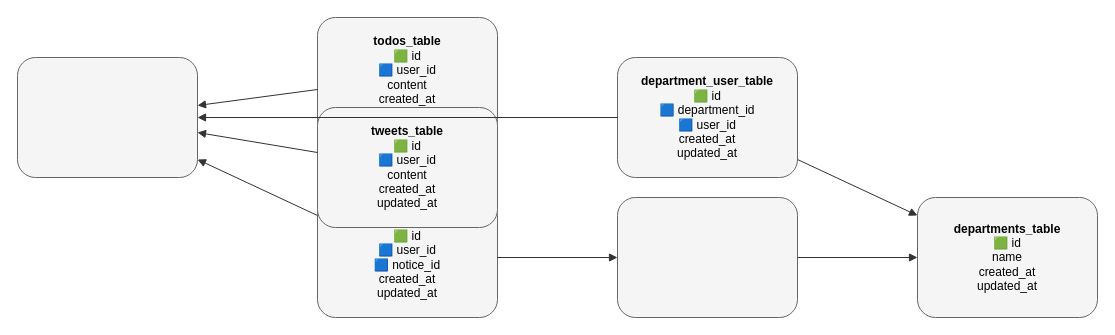
This 1115x335 diagram has some shape labels left out. Here are the shapes that lost their labels. From the top down, the centre of each, then its label:
(107,117): users_table 🟩 id name email created_at updated_at
(707,257): notices_table 🟩 id 🟦 department_id content created_at updated_at
